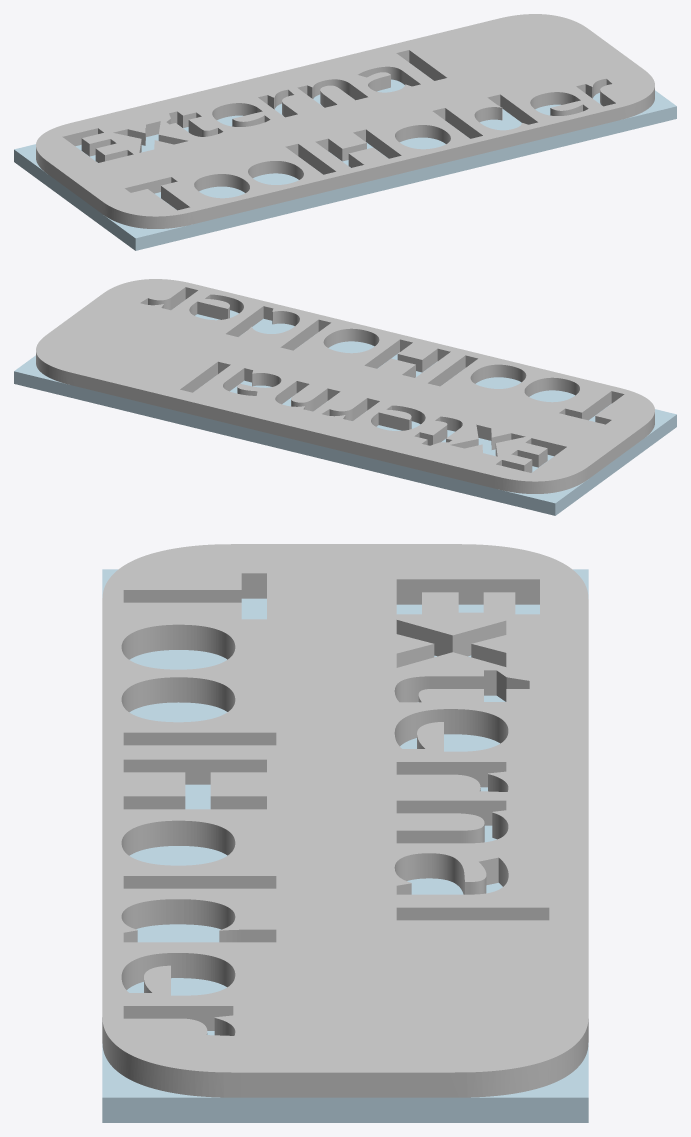
File: EXternal tool holder.fbx
The picture shows the model from 3 angles, top to bottom: view 1: azimuth 30°, elevation 25°; view 2: azimuth 150°, elevation 25°; view 3: azimuth 270°, elevation 25°; orthographic projection. The views are drawn at different scales.
Visible parts, largest first — view 1: imagetostl_mesh0, imagetostl_mesh1; view 2: imagetostl_mesh0, imagetostl_mesh1; view 3: imagetostl_mesh0, imagetostl_mesh1.
Part boxes in pixels (bbox=[...]): imagetostl_mesh0: bbox=[36, 14, 654, 228]; imagetostl_mesh1: bbox=[14, 79, 676, 250]; imagetostl_mesh0: bbox=[36, 279, 654, 493]; imagetostl_mesh1: bbox=[14, 310, 676, 515]; imagetostl_mesh0: bbox=[102, 544, 588, 1097]; imagetostl_mesh1: bbox=[102, 569, 588, 1122].
Size of the model in its own units: 9000 by 400 by 3500.
